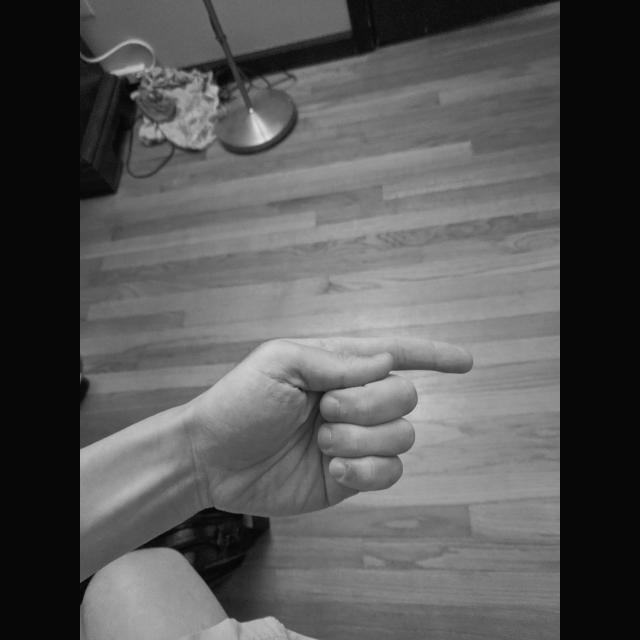G: (204, 331, 478, 524)
